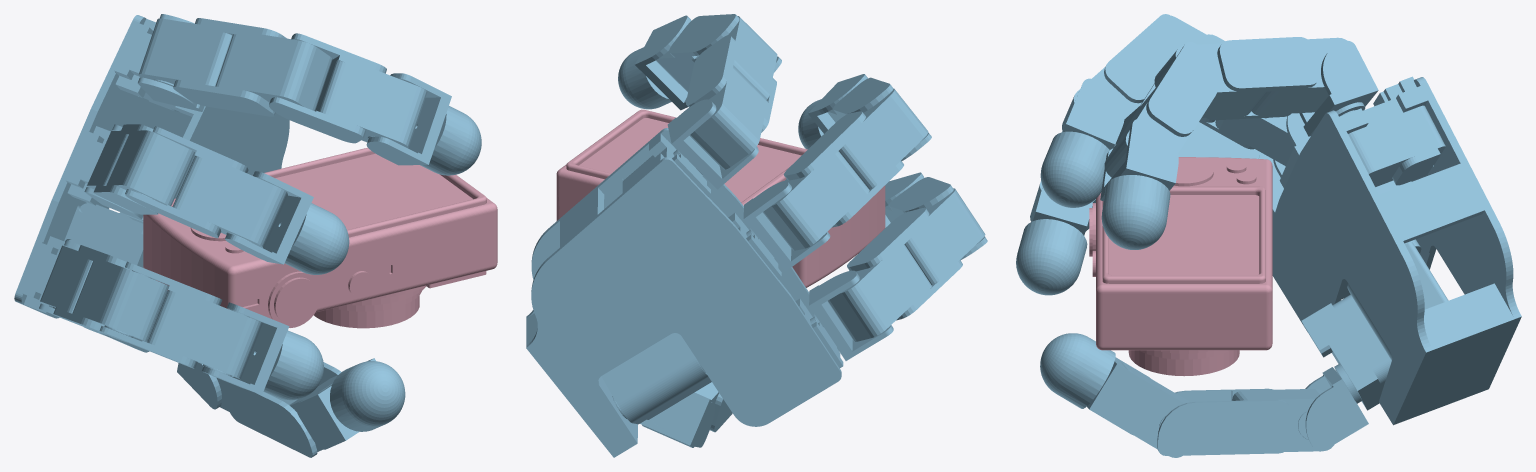
3 views of the same model, side by side, from view 1: azimuth 30°, elevation 25°; view 2: azimuth 150°, elevation 25°; view 3: azimuth 270°, elevation 25° (orthographic). The views are drawn at different scales.
Parts seen in each view (by area): view 1: world, camera.stl; view 2: world, camera.stl; view 3: world, camera.stl.
Boxes of the visible parts, x1=… form: world: x1=14, y1=14, x2=481, y2=457; camera.stl: x1=143, y1=147, x2=497, y2=328; world: x1=526, y1=14, x2=987, y2=457; camera.stl: x1=556, y1=109, x2=885, y2=287; world: x1=1016, y1=14, x2=1521, y2=457; camera.stl: x1=1089, y1=157, x2=1272, y2=376.
Bounding box in the file's own units: 0.1623 × 0.1657 × 0.1854.
